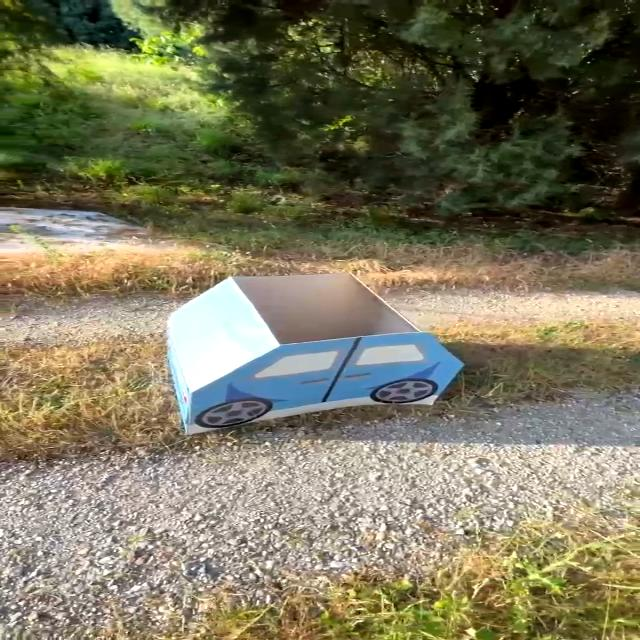blue_car: (121, 248, 503, 454)
